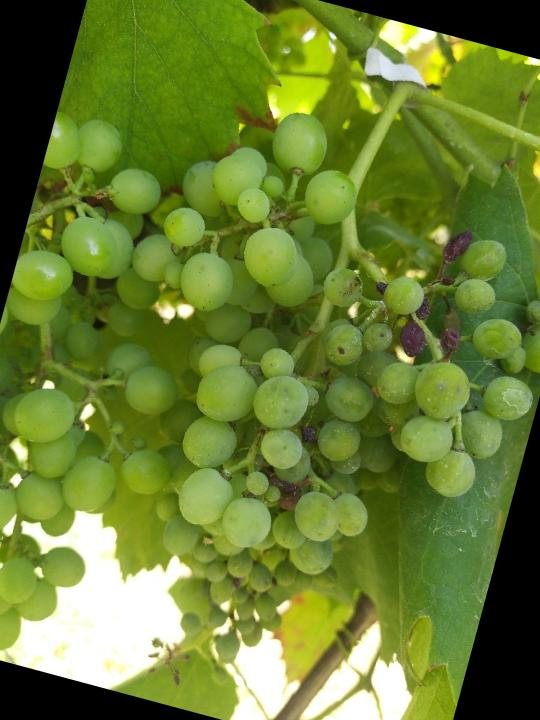grape: (61, 78, 540, 637)
